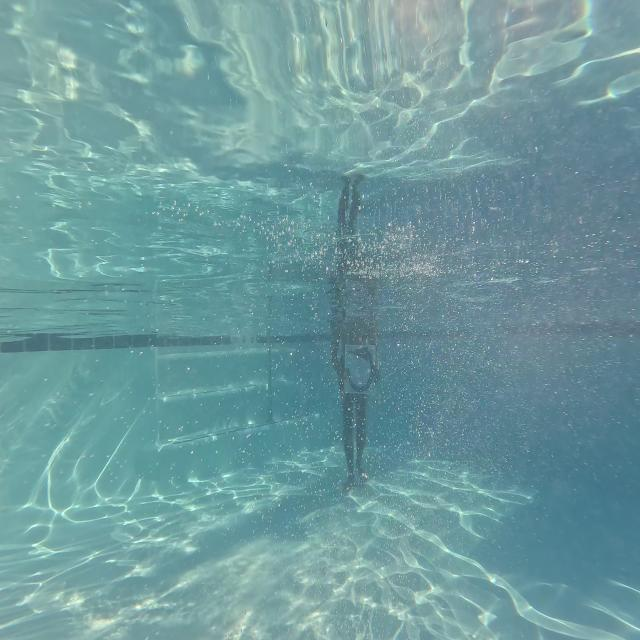blue_side: (343, 350, 376, 401)
